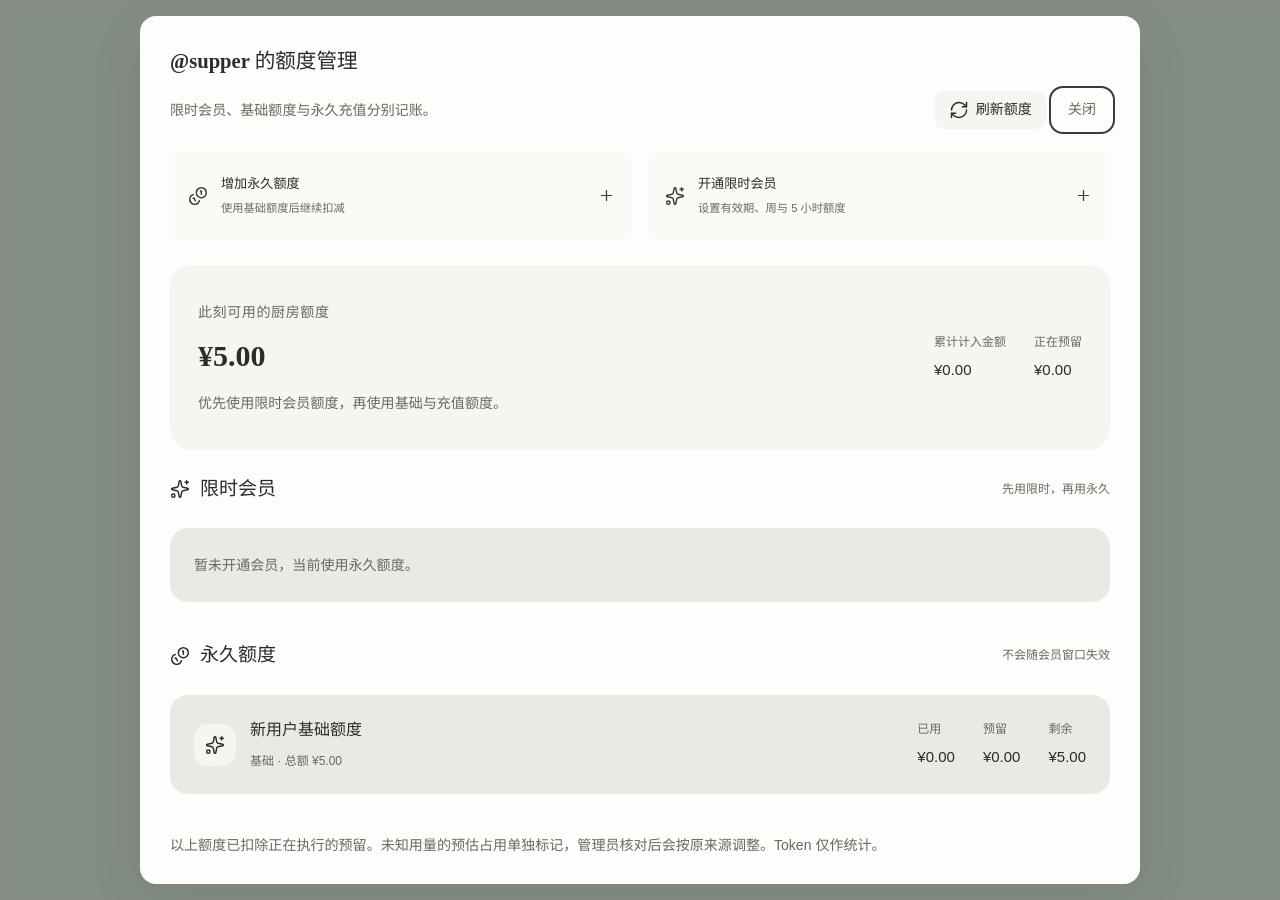
Test: Financial administration › blocks double submissions and closing while a grant is pending
Step 1. Click the button "增加永久额度 使用基础额度后继续扣减" → click(260, 183), box [170, 151, 633, 241]
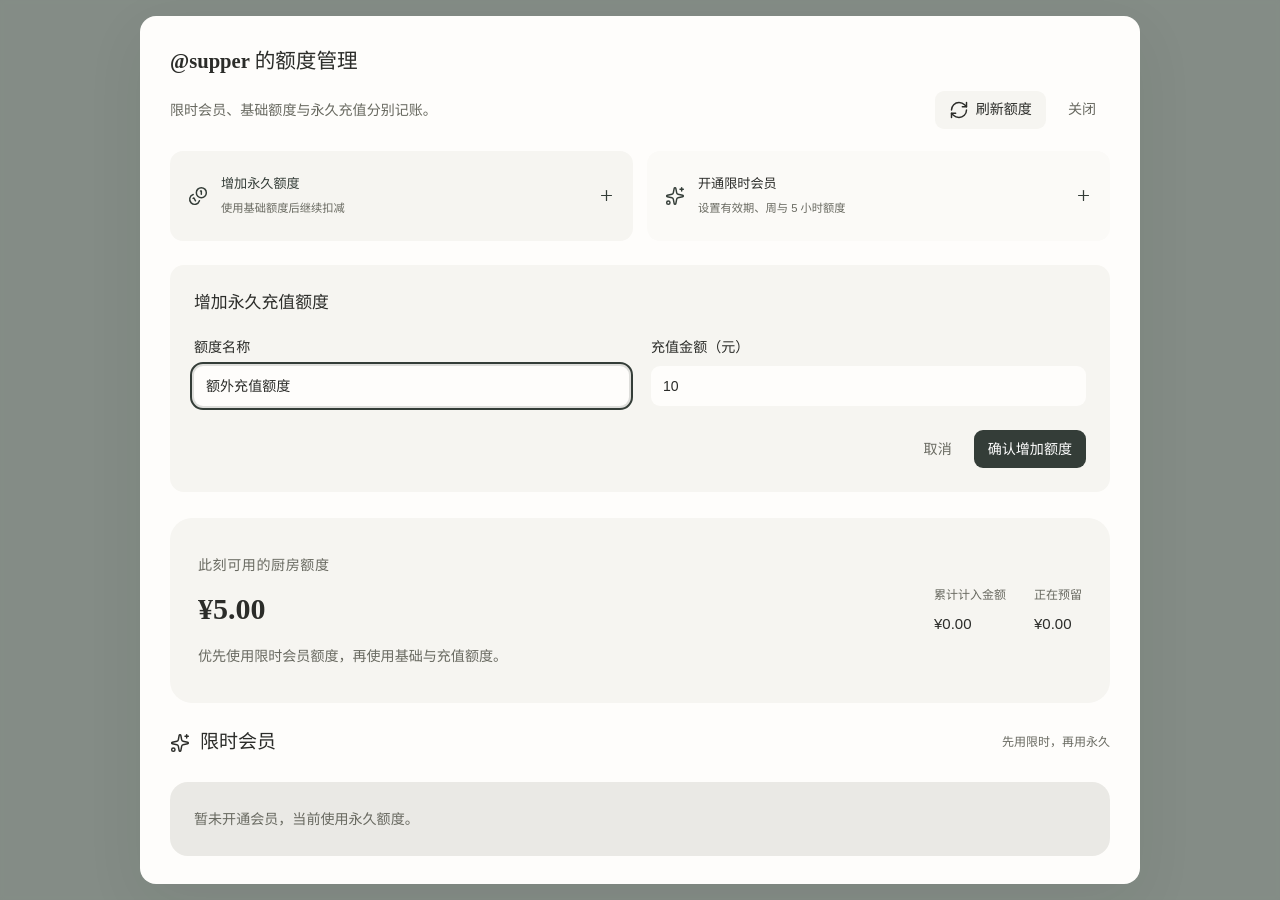
Step 2. Submit the form "增加永久充值额度", box [170, 265, 1110, 492]
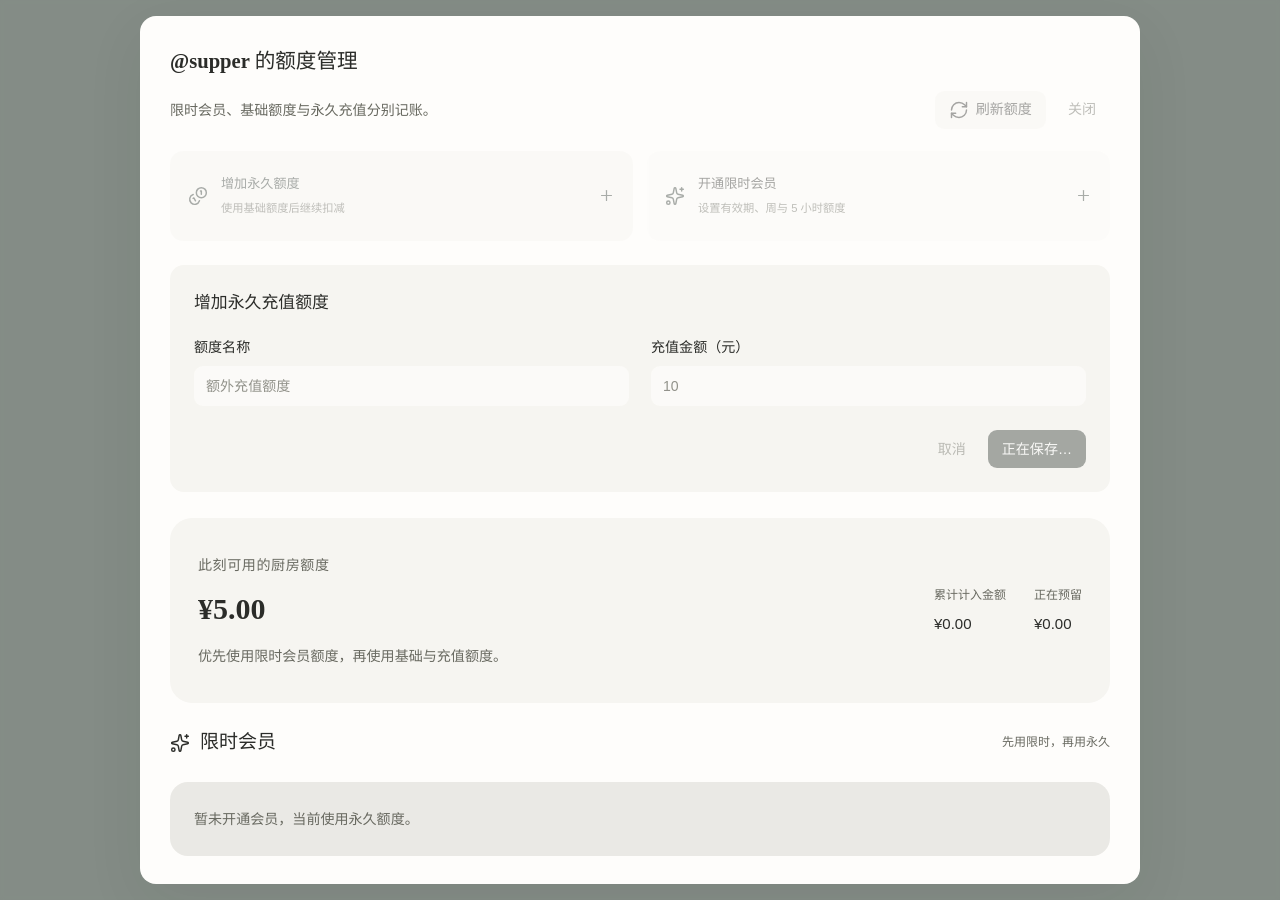
Step 3. Submit the form "增加永久充值额度", box [170, 265, 1110, 492]
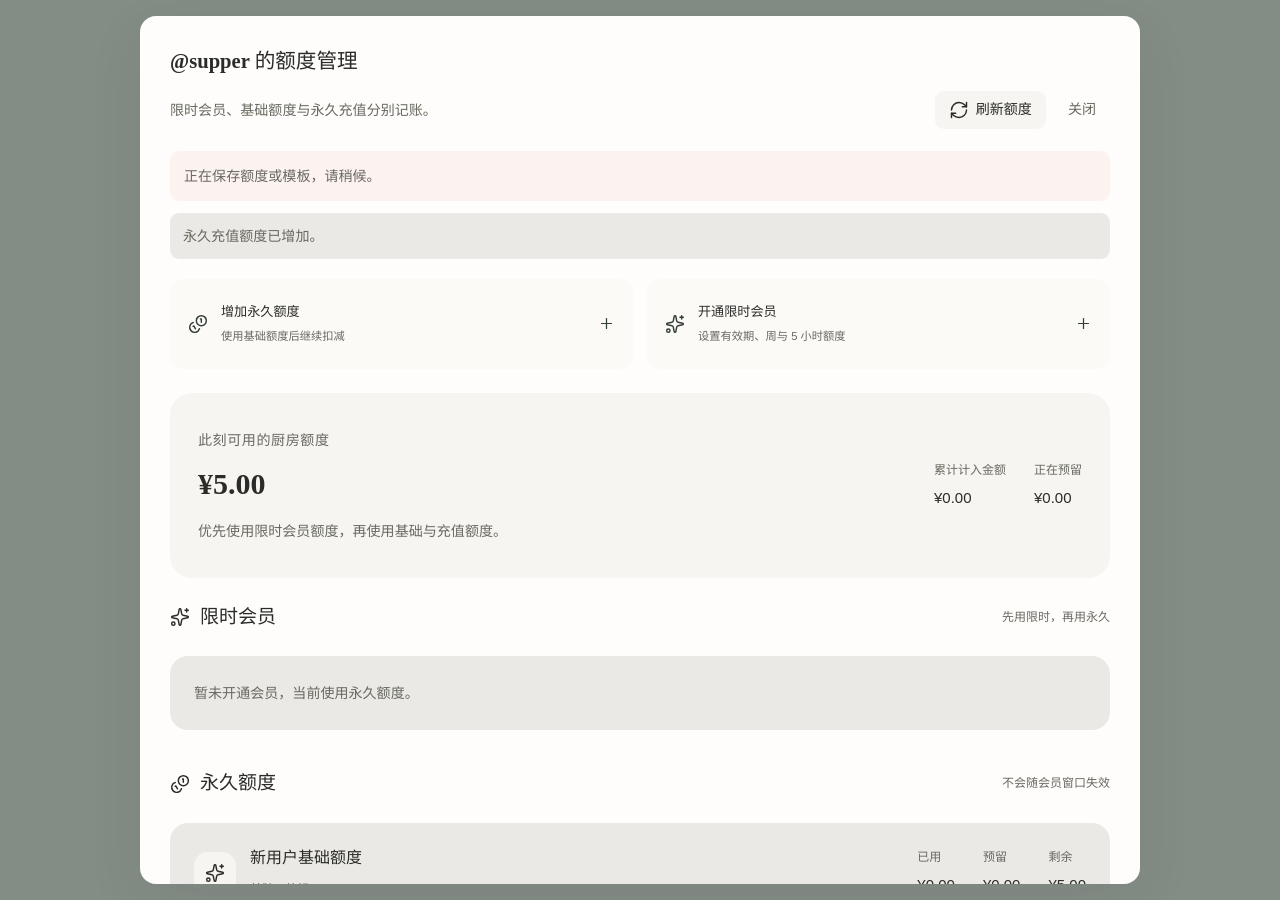
Expected: the message "正在保存额度或模板，请稍候。" is shown, [170, 151, 1110, 201]
